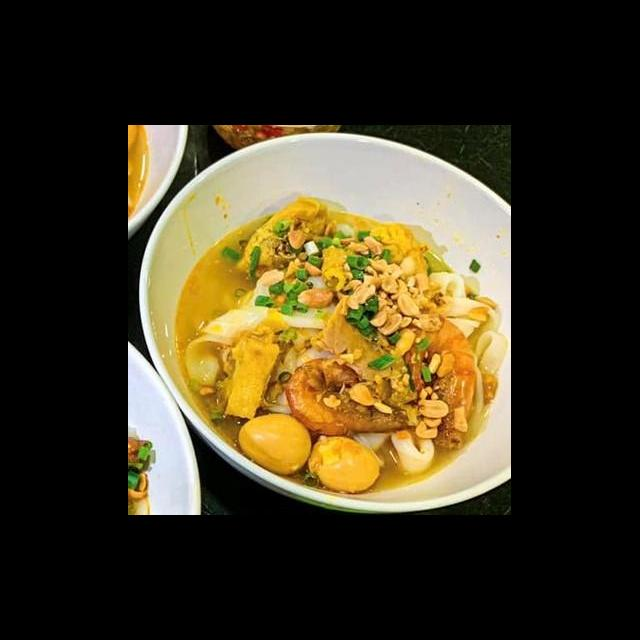mi: (180, 262, 348, 419), (424, 266, 510, 386), (352, 423, 438, 477)
thit ga: (304, 296, 422, 410), (234, 189, 334, 282), (215, 307, 292, 424), (331, 209, 426, 272)
tom: (397, 309, 482, 454), (284, 356, 414, 439)
trung: (236, 411, 314, 480), (304, 431, 384, 497)
